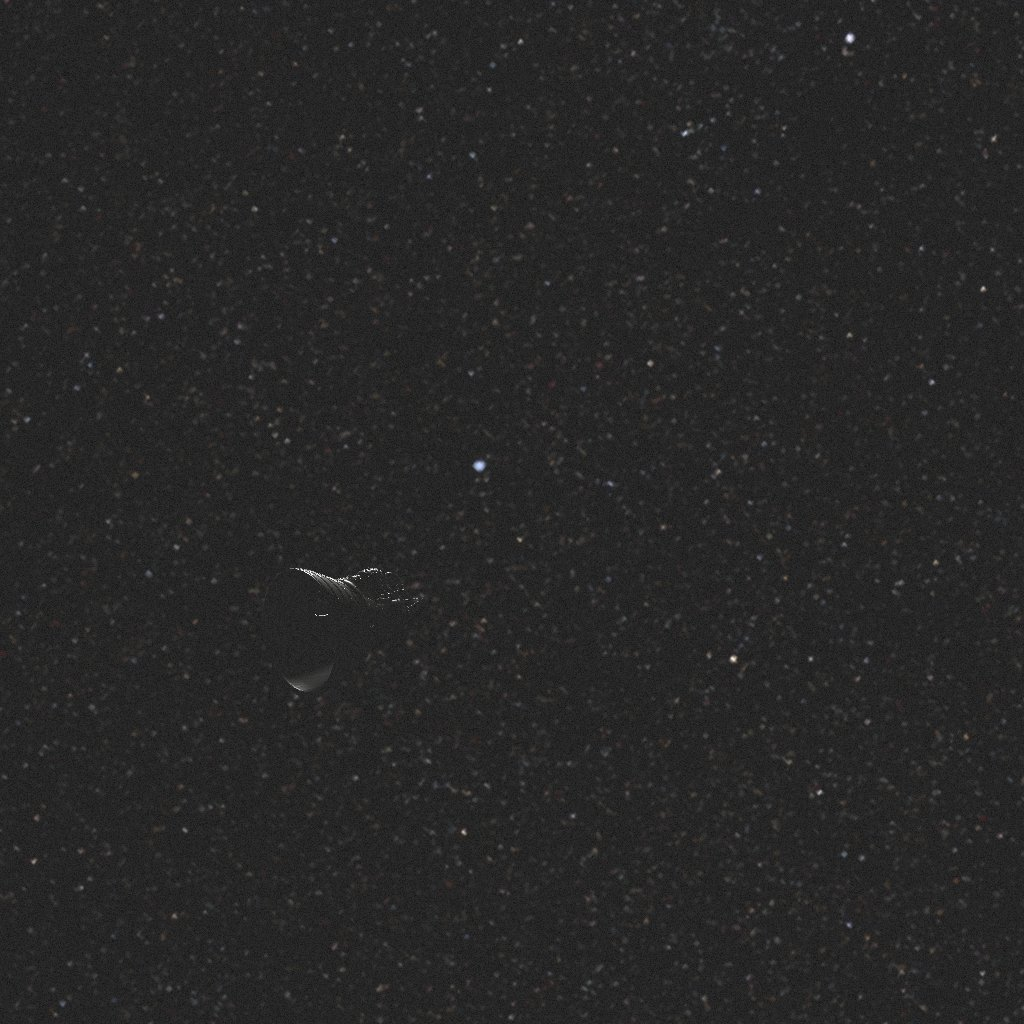debris: (262, 568, 424, 698)
